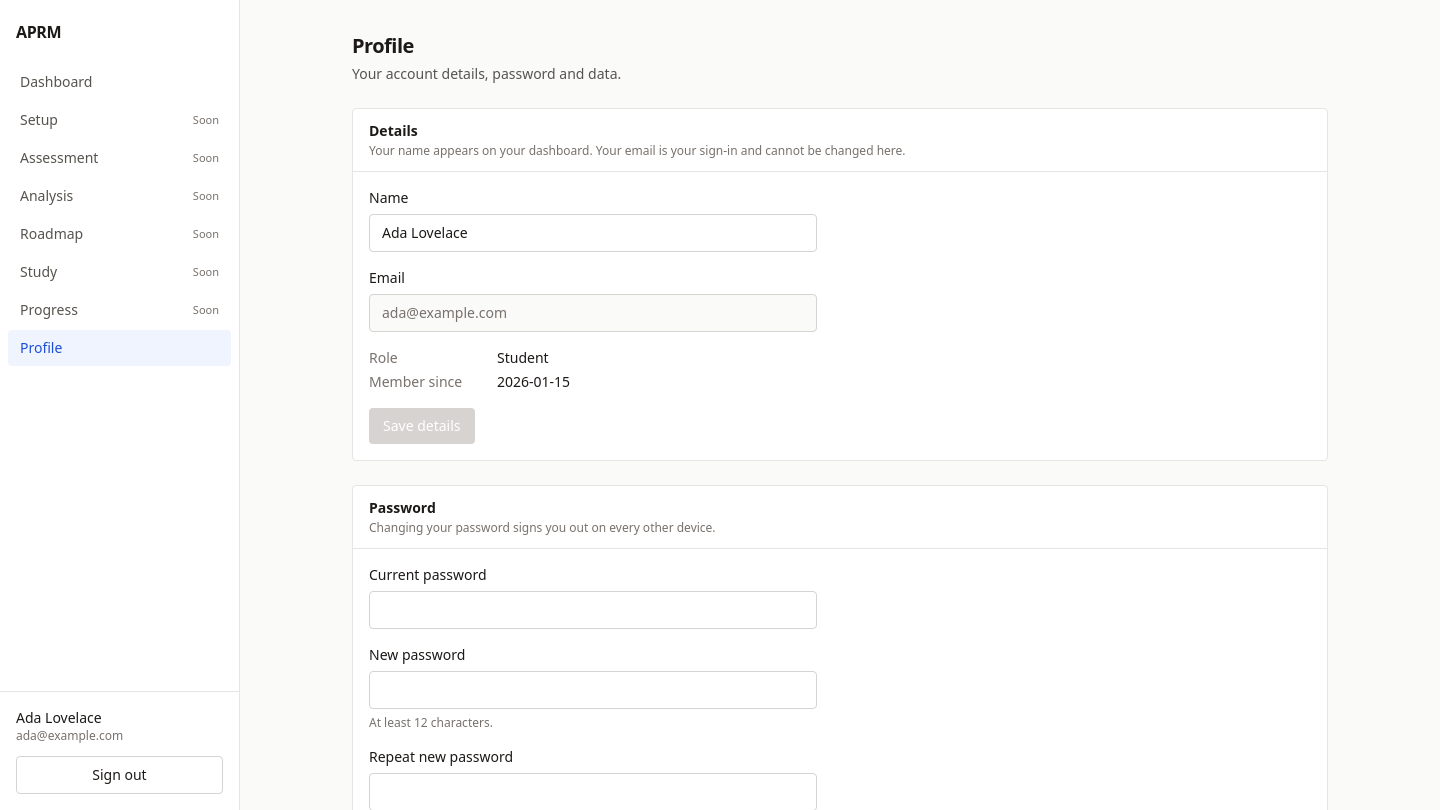
it: ProfilePage › details › saves a new name and shows it in the menu straight away
Expected: the button "Save details" is shown, [369,408,474,444]
Replace the text in the field labelled "Name" with "Ada King" at (593, 233), box [369,214,817,252]
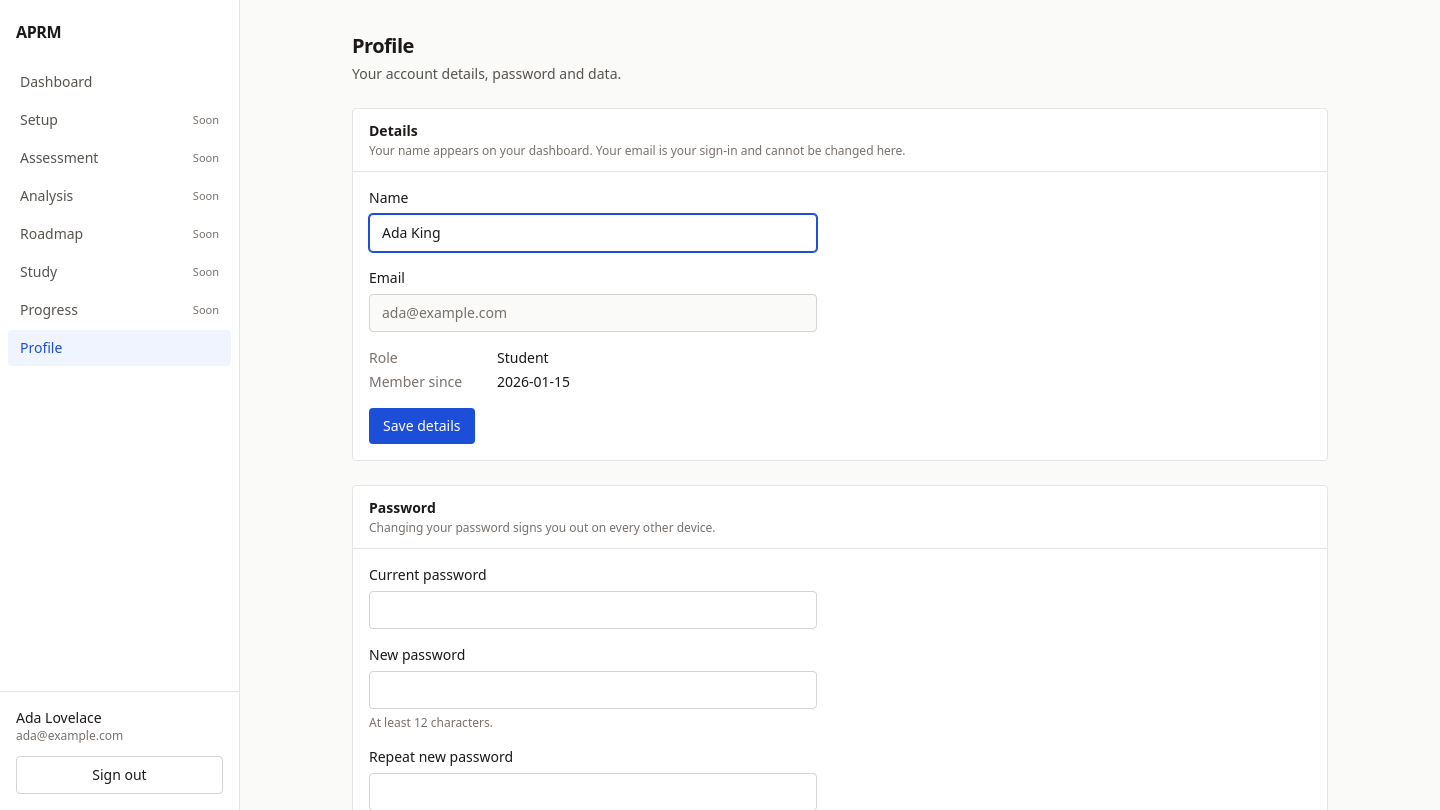
Click the button "Save details" at (422, 426), box [369,408,474,444]
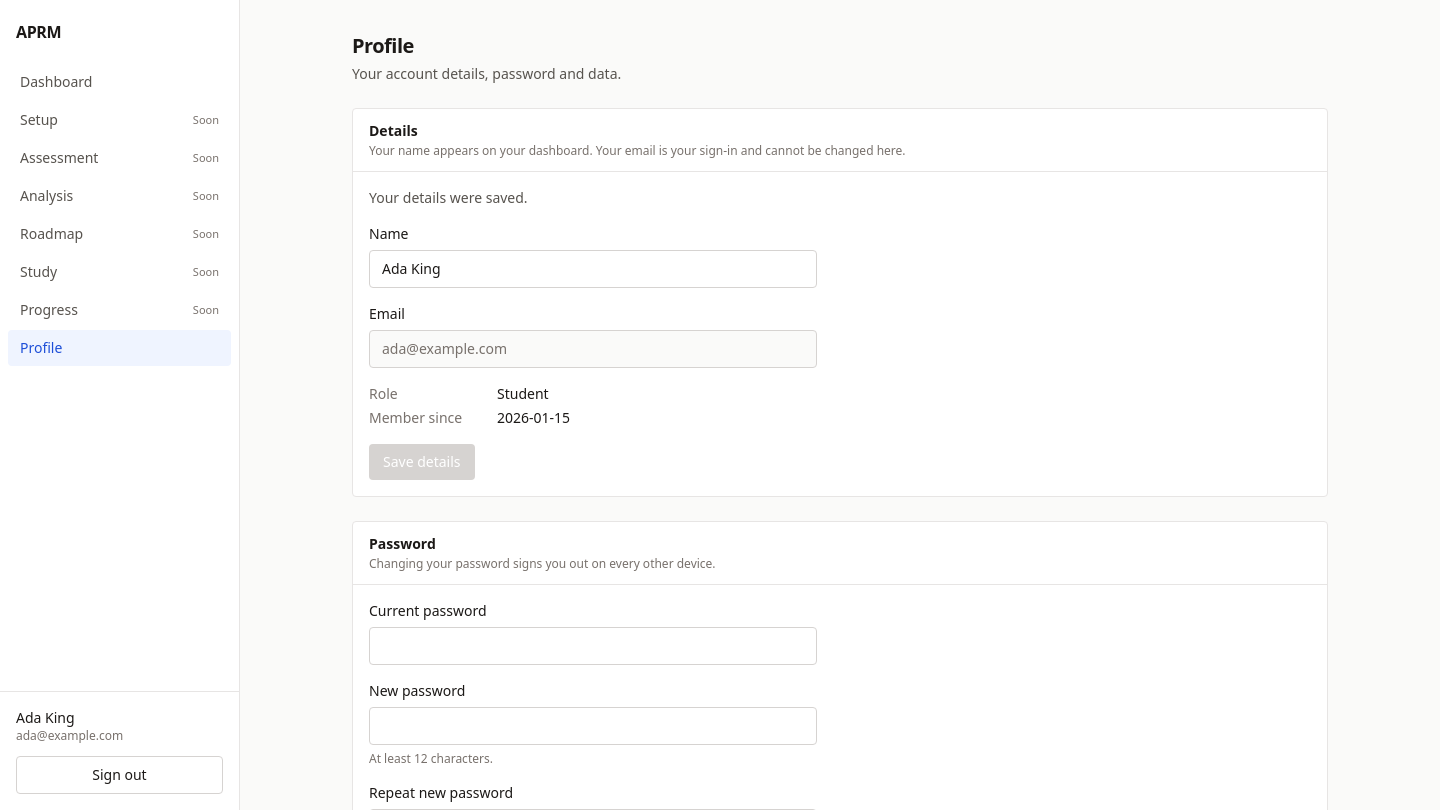
Now the text "Your details were saved." is shown, box [369,188,528,207]
Now the text "Ada King" is shown, box [16,708,75,727]
